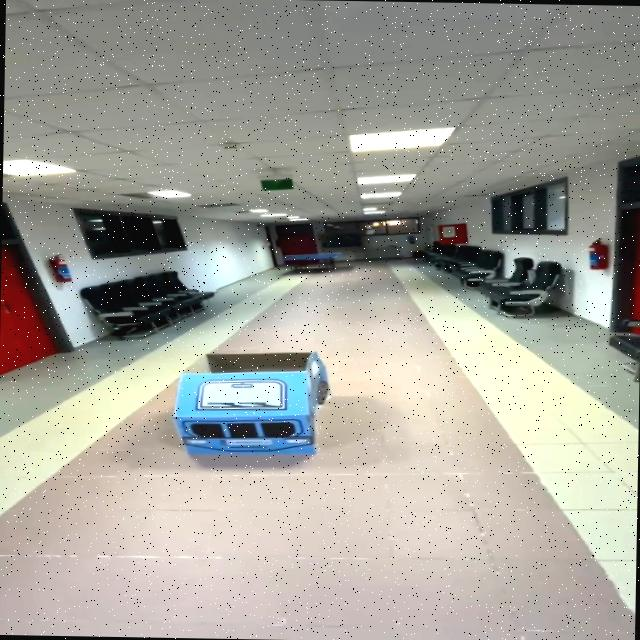blue_car: (127, 336, 368, 475)
